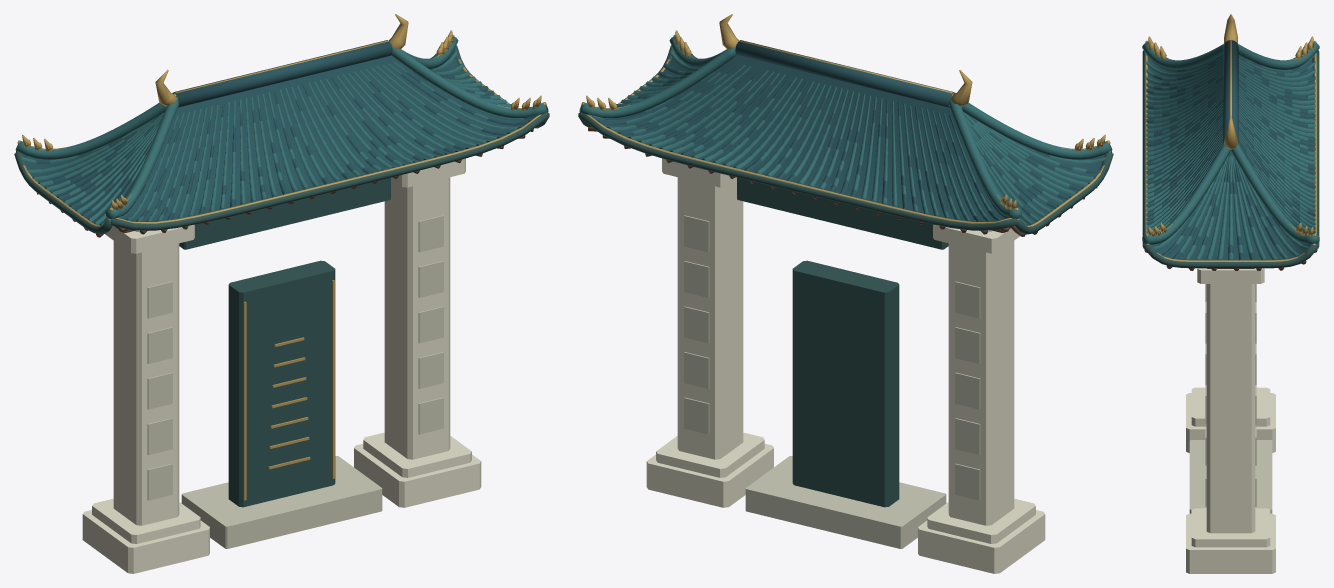
File: gate.glb
The picture shows the model from 3 angles, left to right: view 1: azimuth 30°, elevation 25°; view 2: azimuth 150°, elevation 25°; view 3: azimuth 270°, elevation 25°; orthographic projection. The views are drawn at different scales.
Visible parts, largest first — view 1: Gate_StoneCarving, Gate_TileShade, Gate_Lacquer, Gate_TileJade, Gate_Limestone, Gate_AgedBronze; view 2: Gate_StoneCarving, Gate_Lacquer, Gate_TileShade, Gate_TileJade, Gate_Limestone, Gate_AgedBronze; view 3: Gate_TileJade, Gate_StoneCarving, Gate_TileShade, Gate_Limestone, Gate_AgedBronze, Gate_Lacquer.
Part boxes in pixels (x1=…): Gate_StoneCarving: x1=82, y1=158, x2=481, y2=573; Gate_TileShade: x1=23, y1=40, x2=538, y2=225; Gate_Lacquer: x1=14, y1=45, x2=549, y2=507; Gate_TileJade: x1=15, y1=36, x2=548, y2=225; Gate_Limestone: x1=147, y1=215, x2=443, y2=548; Gate_AgedBronze: x1=17, y1=14, x2=546, y2=500; Gate_StoneCarving: x1=646, y1=158, x2=1045, y2=573; Gate_Lacquer: x1=578, y1=45, x2=1113, y2=507; Gate_TileShade: x1=593, y1=40, x2=1104, y2=225; Gate_TileJade: x1=579, y1=36, x2=1112, y2=225; Gate_Limestone: x1=684, y1=215, x2=980, y2=548; Gate_AgedBronze: x1=581, y1=14, x2=1110, y2=226; Gate_TileJade: x1=1142, y1=42, x2=1319, y2=260; Gate_StoneCarving: x1=1186, y1=268, x2=1275, y2=573; Gate_TileShade: x1=1146, y1=40, x2=1315, y2=260; Gate_Limestone: x1=1189, y1=284, x2=1272, y2=513; Gate_AgedBronze: x1=1145, y1=14, x2=1316, y2=261; Gate_Lacquer: x1=1142, y1=50, x2=1319, y2=268.
Bounding box in the file's own units: 12.41 × 12.64 × 4.73.
